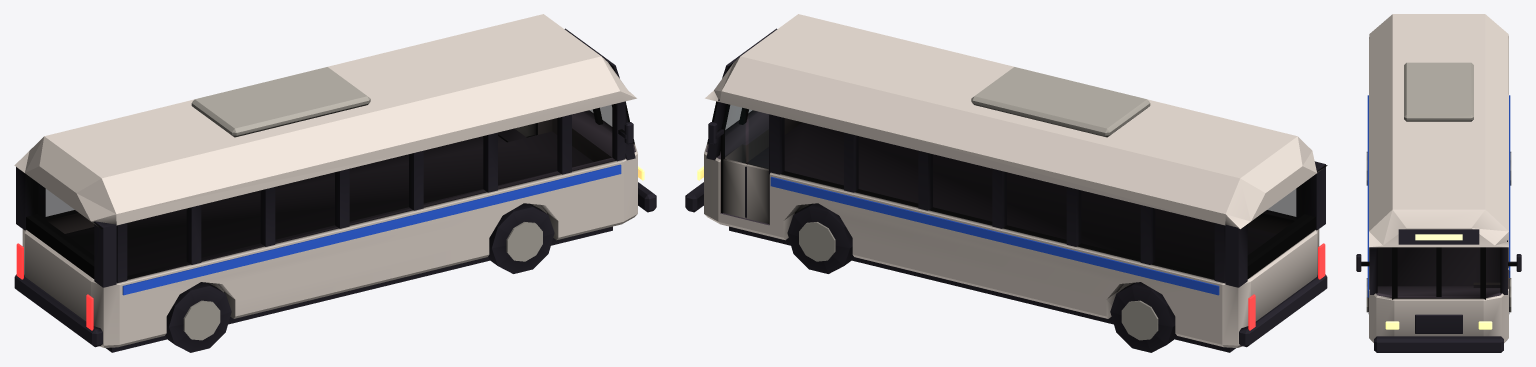
File: veh.evac-bus.lod2.glb
3 renders of one model, left to right at view 1: azimuth 30°, elevation 25°; view 2: azimuth 150°, elevation 25°; view 3: azimuth 270°, elevation 25°, orthographic. The views are drawn at different scales.
Parts seen in each view (by area): view 1: body, wheelRL, wheelFL, lightsBrake; view 2: body, doorR, wheelRR, wheelFR, lightsBrake; view 3: body, object 3, lightsFront.
Part boxes in pixels (<box>): body: <box>14,14,656,352</box>; wheelRL: <box>165,282,231,352</box>; wheelFL: <box>488,203,554,273</box>; lightsBrake: <box>16,243,93,330</box>; body: <box>685,14,1327,352</box>; doorR: <box>721,104,770,224</box>; wheelRR: <box>1110,282,1176,352</box>; wheelFR: <box>787,203,853,273</box>; lightsBrake: <box>1248,243,1325,330</box>; body: <box>1356,14,1521,352</box>; object 3: <box>1415,234,1462,240</box>; lightsFront: <box>1385,321,1492,329</box>.
Size of the model in its own units: 9.36 by 3.03 by 2.95.
